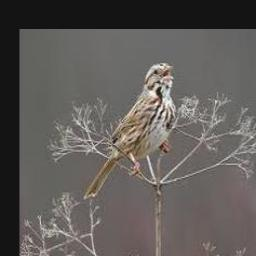Sparrow: (83, 62, 177, 200)
